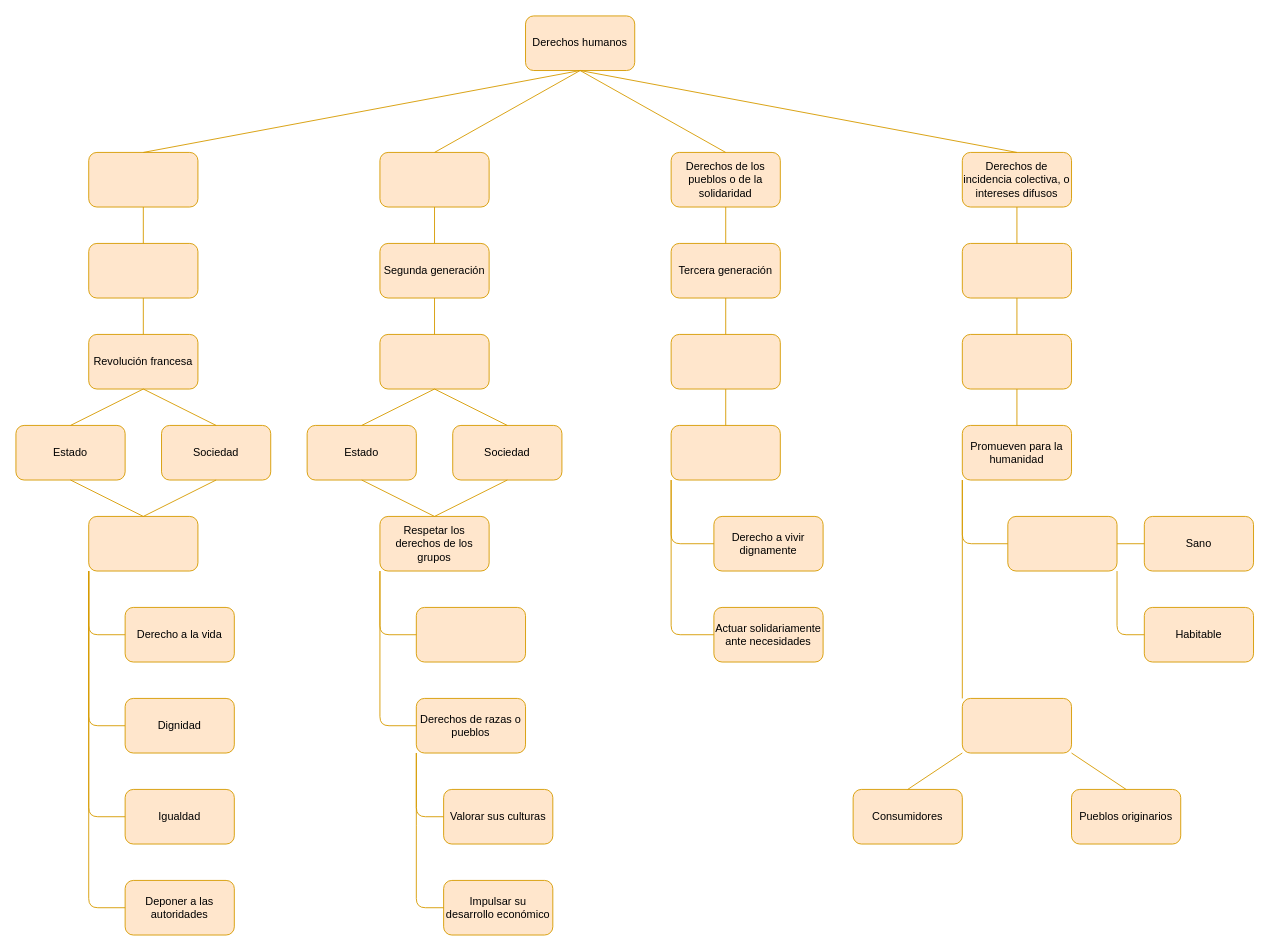
Some shapes in this 1269 by 951 pixel diagram are drawn without their labels. The shapes that lost their labels are listed below. From the top down, each one's box as (x1, y1, x2, y2) in pixels, then its label:
(88, 152, 198, 207): Derechos individuales, civiles y políticos
(379, 152, 489, 207): Derechos sociales, económicos y culturales
(88, 243, 198, 298): Primera generación
(961, 243, 1072, 298): Cuarta generación
(379, 334, 489, 389): Revolución industrial
(670, 334, 780, 389): Luego de las guerras mundiales
(961, 334, 1072, 389): Siglo XXI
(670, 425, 780, 480): Imponen a los estados
(88, 516, 198, 571): Respetar los derechos del ser humano
(1007, 516, 1117, 571): Planeta
(415, 607, 526, 662): Trabajadores
(961, 698, 1072, 753): Proteger a grupos
